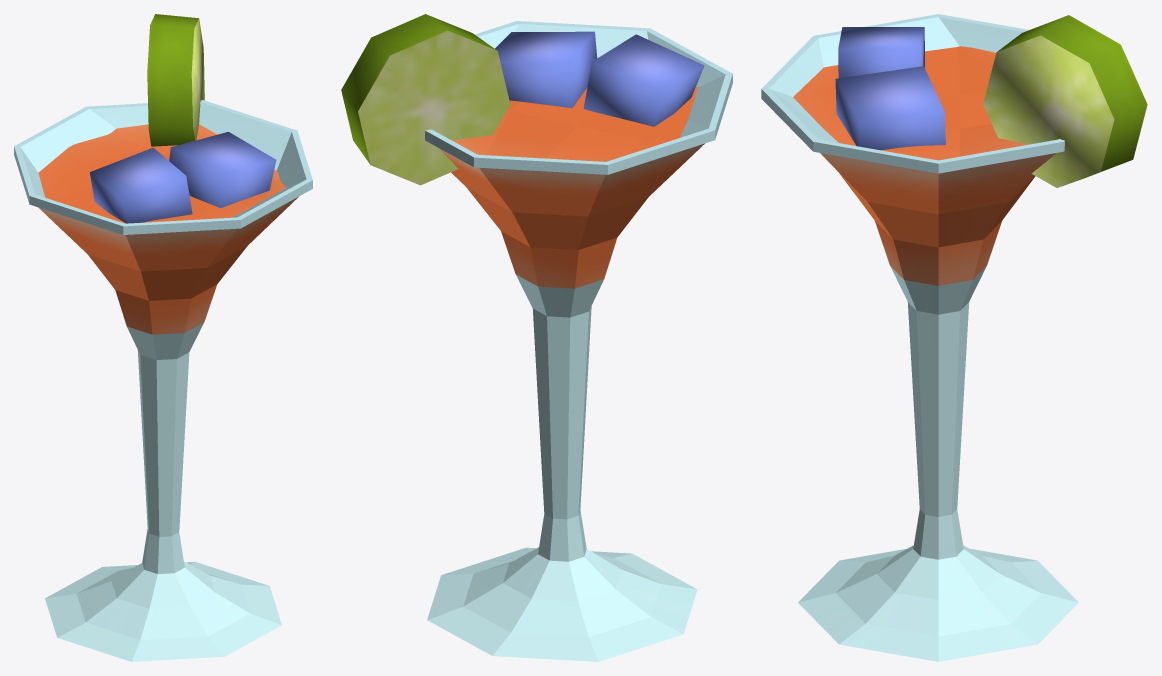
Rendered from CocktailGlassDrink.fbx.
3 renders of one model, left to right at view 1: azimuth 30°, elevation 25°; view 2: azimuth 150°, elevation 25°; view 3: azimuth 270°, elevation 25°, orthographic. The views are drawn at different scales.
Parts seen in each view (by area): view 1: CocktailGlass; view 2: CocktailGlass; view 3: CocktailGlass.
Part boxes in pixels (left/top/right/bottom): CocktailGlass: left=14, top=14, right=312, bottom=661; CocktailGlass: left=341, top=14, right=732, bottom=661; CocktailGlass: left=761, top=14, right=1147, bottom=661.
Size of the model in its own units: 15.83 by 30.16 by 17.25.
